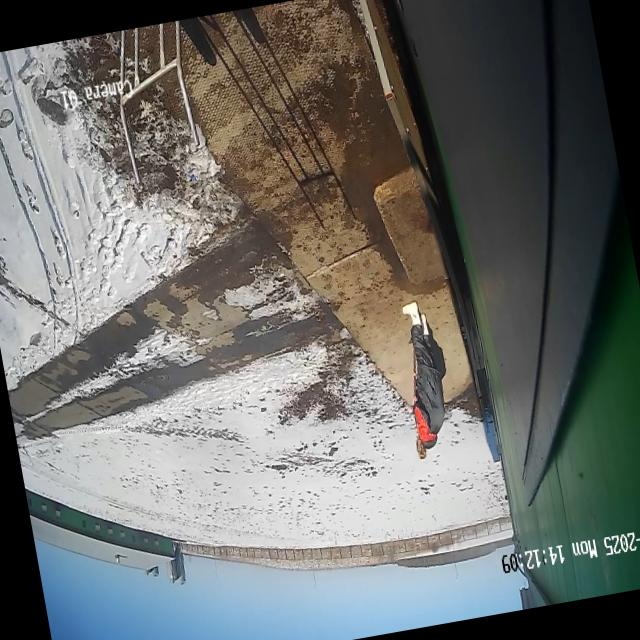Red uniform: (388, 294, 462, 462)
